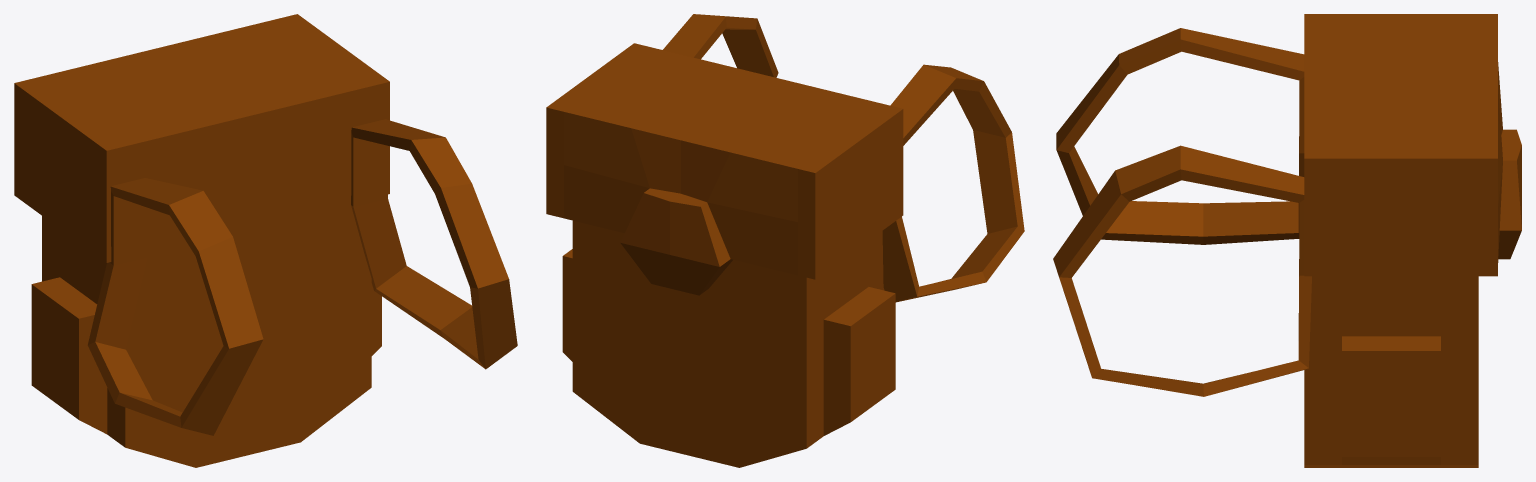
The model's file is Backpack.fbx.
The picture shows the model from 3 angles, left to right: view 1: azimuth 30°, elevation 25°; view 2: azimuth 150°, elevation 25°; view 3: azimuth 270°, elevation 25°; orthographic projection. The views are drawn at different scales.
Parts seen in each view (by area): view 1: Backpack base, Backpack rope; view 2: Backpack base, Backpack rope; view 3: Backpack base, Backpack rope.
Part boxes in pixels (bbox=[...]): Backpack base: bbox=[14, 14, 389, 467]; Backpack rope: bbox=[87, 119, 517, 435]; Backpack base: bbox=[546, 43, 903, 467]; Backpack rope: bbox=[663, 14, 1024, 302]; Backpack base: bbox=[1304, 14, 1521, 467]; Backpack rope: bbox=[1053, 28, 1311, 396].
Bounding box in the file's own units: 48.62 × 43.42 × 52.01.
